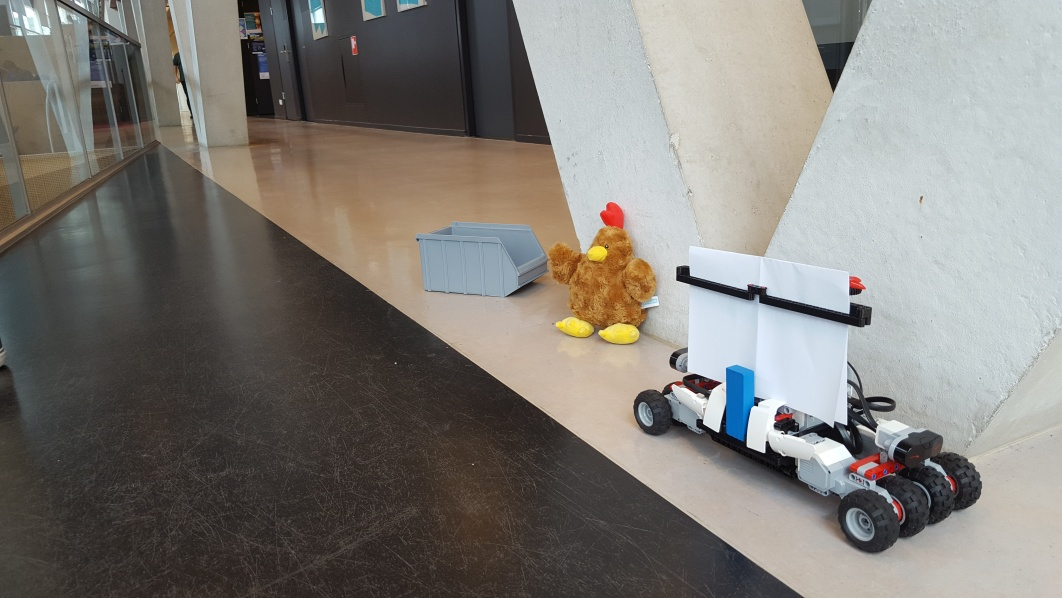car: (634, 244, 983, 555)
chicken: (549, 203, 661, 348)
tray: (413, 218, 550, 298)
